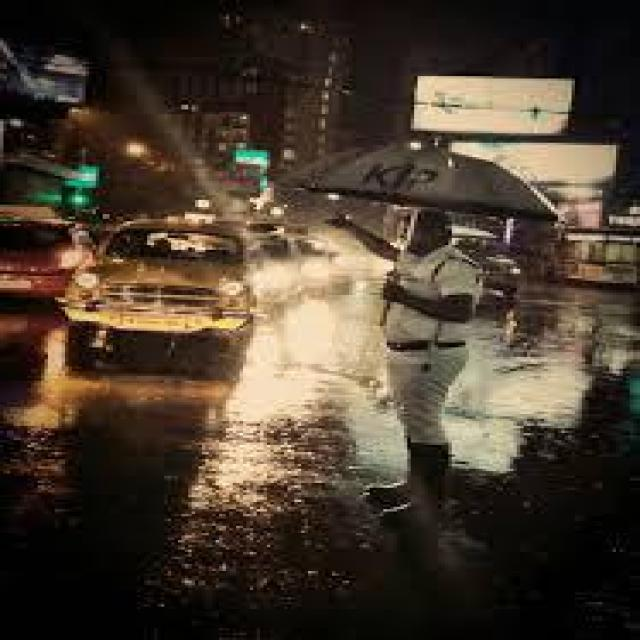other: (240, 248, 370, 289)
